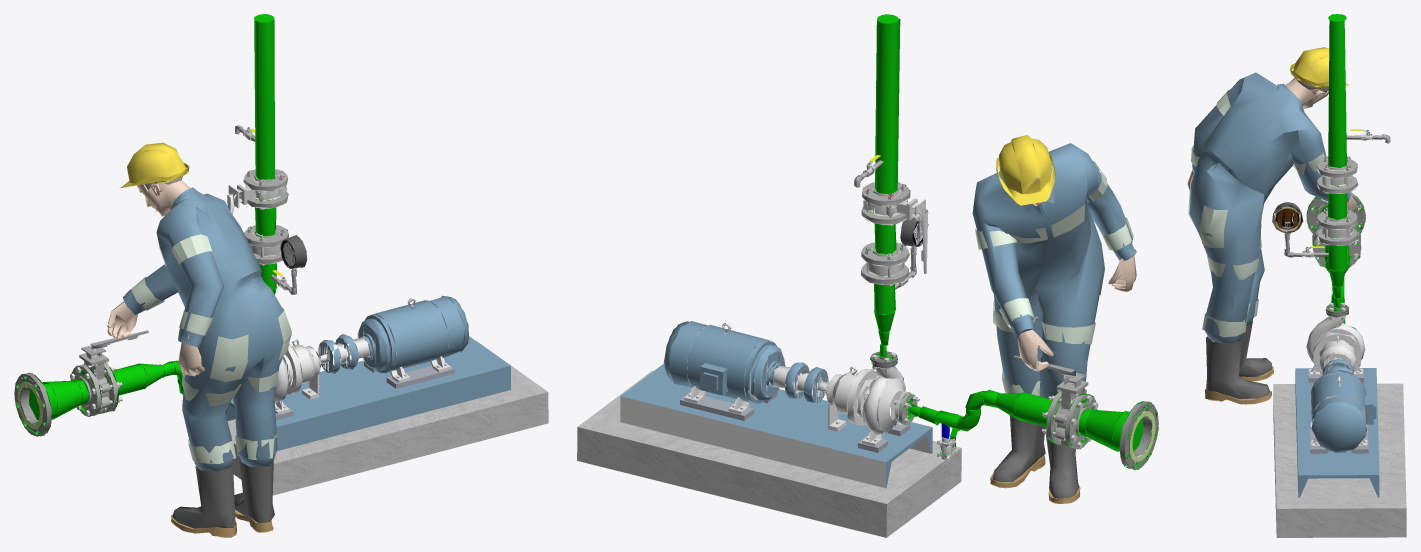
File: pump.glb
3 renders of one model, left to right at view 1: azimuth 30°, elevation 25°; view 2: azimuth 150°, elevation 25°; view 3: azimuth 270°, elevation 25°, orthographic. The views are drawn at different scales.
Parts seen in each view (by area): view 1: Material2.001; view 2: Material2.001; view 3: Material2.001.
Boxes of the visible parts, x1,y1,x2,y2 form: Material2.001: [14, 14, 548, 537]; Material2.001: [577, 14, 1158, 537]; Material2.001: [1187, 14, 1406, 537].
Size of the model in its own units: 2.42 by 2.12 by 1.02.
4 materials, 4 textured.
